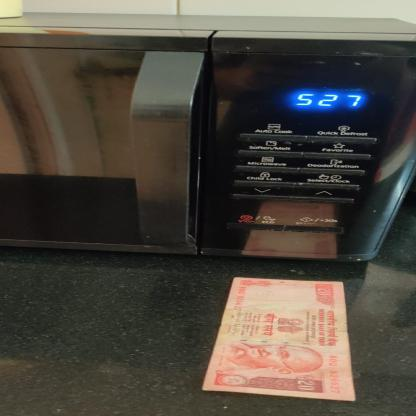Old20Front: (202, 277, 357, 401)
